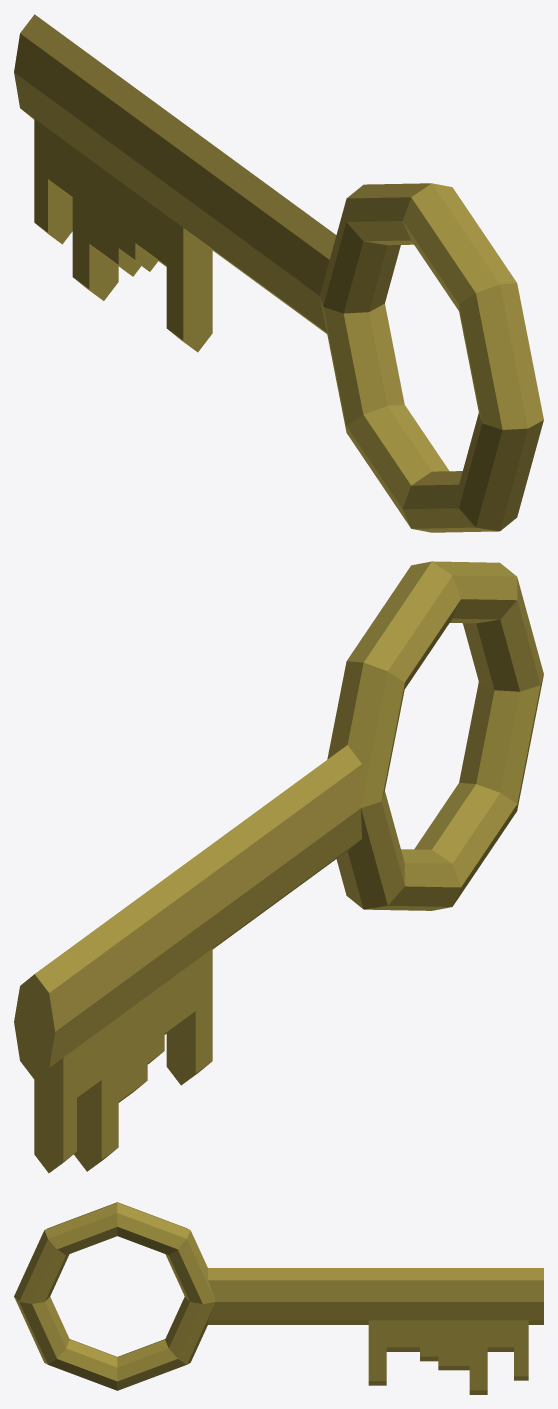
File: door_key.fbx
3 views of the same model, one above another, from view 1: azimuth 30°, elevation 25°; view 2: azimuth 150°, elevation 25°; view 3: azimuth 270°, elevation 25° (orthographic). The views are drawn at different scales.
Parts seen in each view (by area): view 1: door_key; view 2: door_key; view 3: door_key.
Boxes of the visible parts, x1,y1,x2,y2 form: door_key: (14,14,543,532); door_key: (14,561,543,1172); door_key: (14,1202,543,1394).
Bounding box in the file's own units: 2.4 × 14.06 × 35.13.
